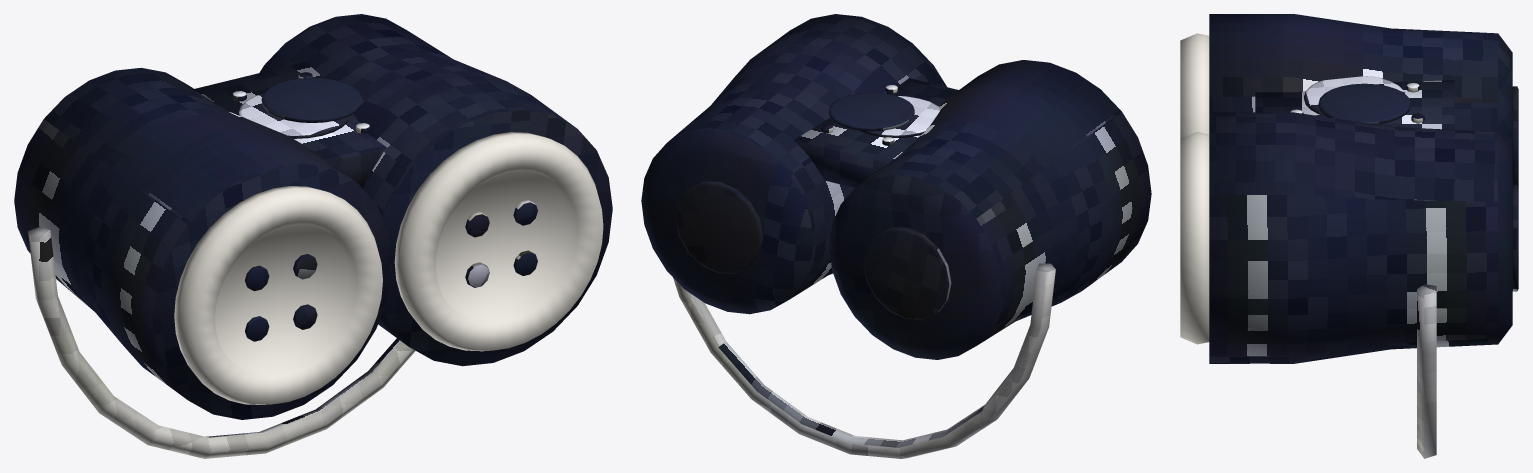
Rendered from binoculars_night.glb.
The picture shows the model from 3 angles, left to right: view 1: azimuth 30°, elevation 25°; view 2: azimuth 150°, elevation 25°; view 3: azimuth 270°, elevation 25°; orthographic projection. The views are drawn at different scales.
Visible parts, largest first — view 1: prop_binoculars_night_felt, prop_binoculars_night_pearl; view 2: prop_binoculars_night_felt; view 3: prop_binoculars_night_felt, prop_binoculars_night_pearl.
Part boxes in pixels (x1,y1,x2,y2): prop_binoculars_night_felt: (14, 14, 612, 458); prop_binoculars_night_pearl: (174, 132, 603, 404); prop_binoculars_night_felt: (641, 14, 1151, 458); prop_binoculars_night_felt: (1209, 14, 1518, 458); prop_binoculars_night_pearl: (1180, 33, 1209, 344).
Bounding box in the file's own units: 0.2045 × 0.1663 × 0.1395.
2 materials, 1 textured.
